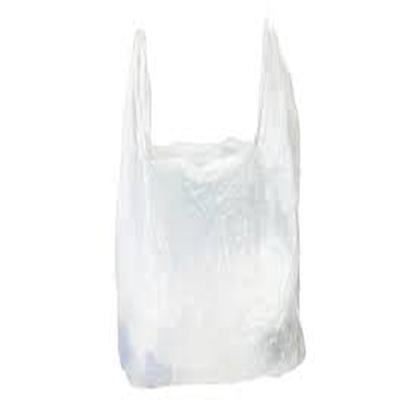plastic bag: (116, 17, 307, 387)
